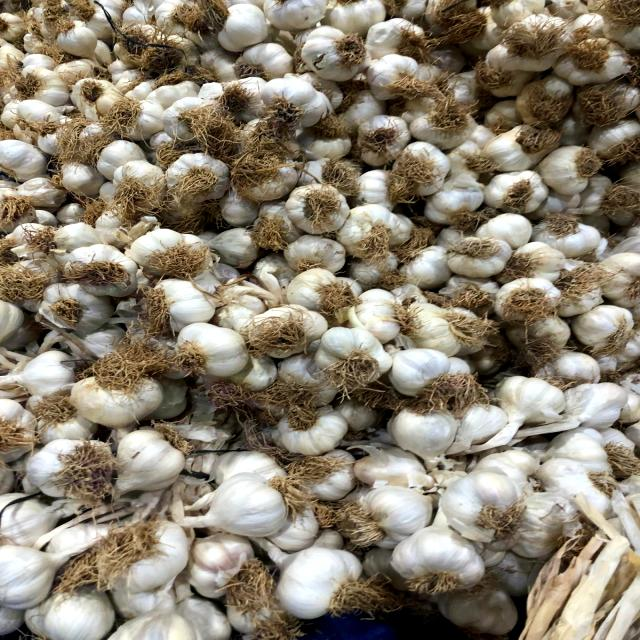garlic: (251, 535, 393, 634), (64, 356, 167, 429), (181, 474, 295, 539), (293, 22, 375, 88), (278, 182, 354, 238), (445, 233, 515, 278)
